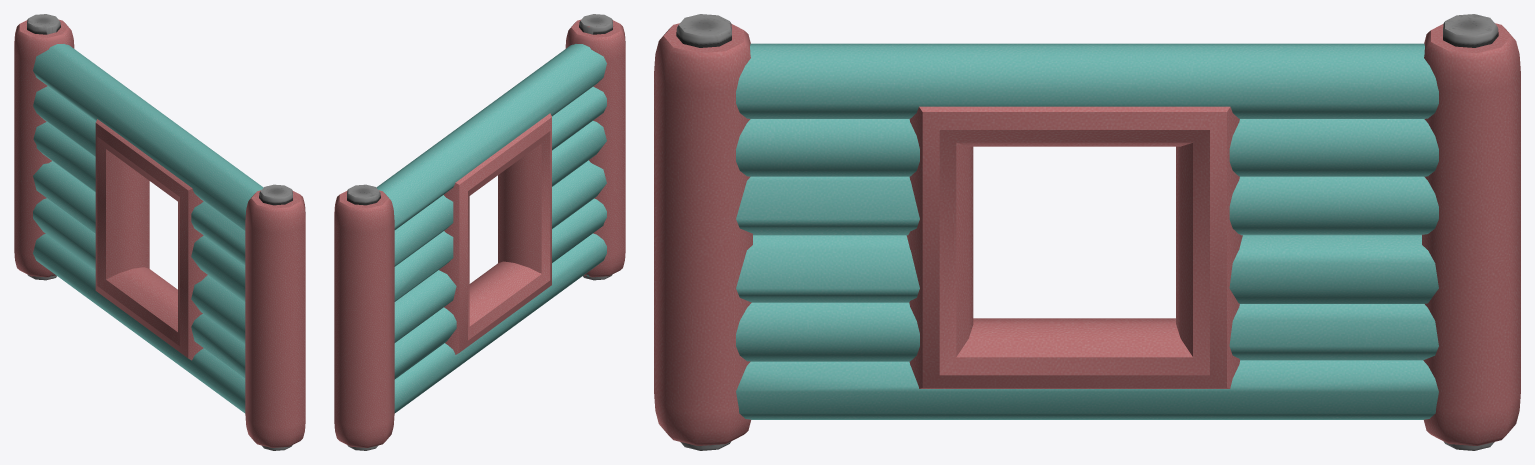
Rendered from OBS0110294.fbx.
The picture shows the model from 3 angles, left to right: view 1: azimuth 30°, elevation 25°; view 2: azimuth 150°, elevation 25°; view 3: azimuth 270°, elevation 25°; orthographic projection. The views are drawn at different scales.
Visible parts, largest first — view 1: smOBS0110294; view 2: smOBS0110294; view 3: smOBS0110294.
Boxes of the visible parts, x1,y1,x2,y2 form: smOBS0110294: (14,14,305,450); smOBS0110294: (334,14,625,450); smOBS0110294: (654,14,1520,450).
Bounding box in the file's own units: 21.17 × 96.51 × 183.
Materials: 1 (1 with a texture image).
